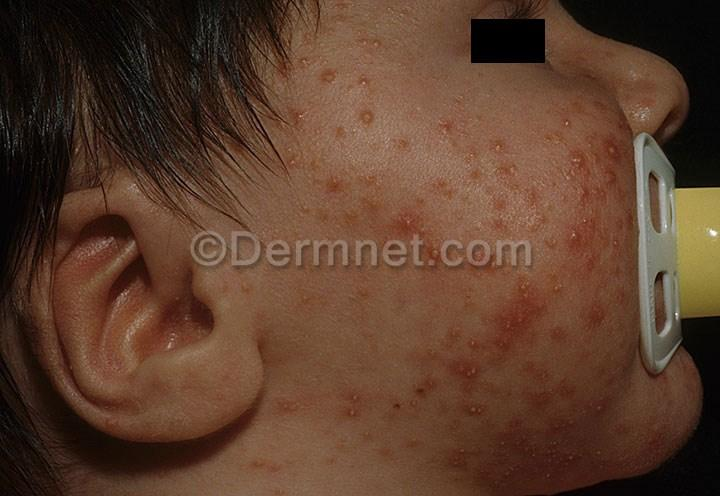Acne: (524, 389, 617, 478), (412, 362, 505, 422), (556, 142, 630, 216), (484, 302, 552, 356), (384, 194, 429, 248), (356, 112, 404, 148), (281, 109, 320, 139)
